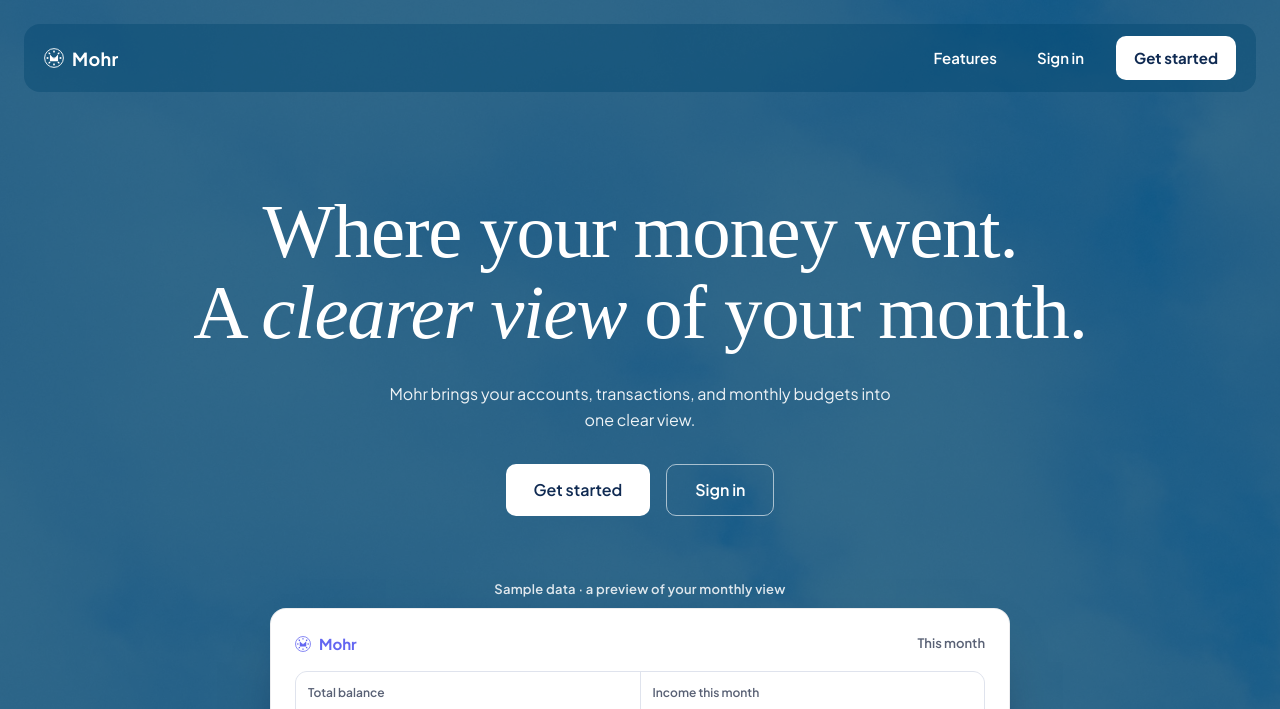
Scenario: login › fetches a CSRF token, posts credentials, and navigates to the shell
Click the link "Sign in" next to "Features".
click(1060, 57)  # box [1037, 48, 1084, 67]
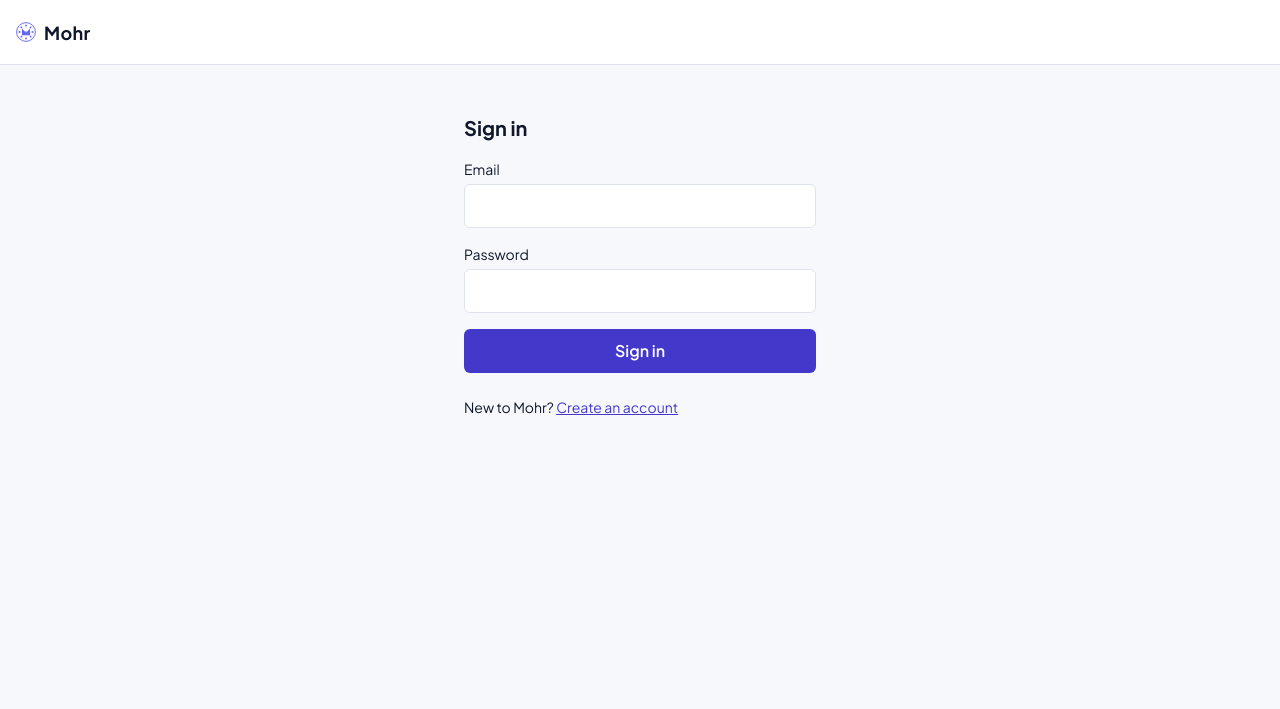
Expected: the field labelled "Email" is shown
Type "me@example.com" into the field labelled "Email".
click(640, 206); type("me@example.com")  # box [464, 184, 816, 228]
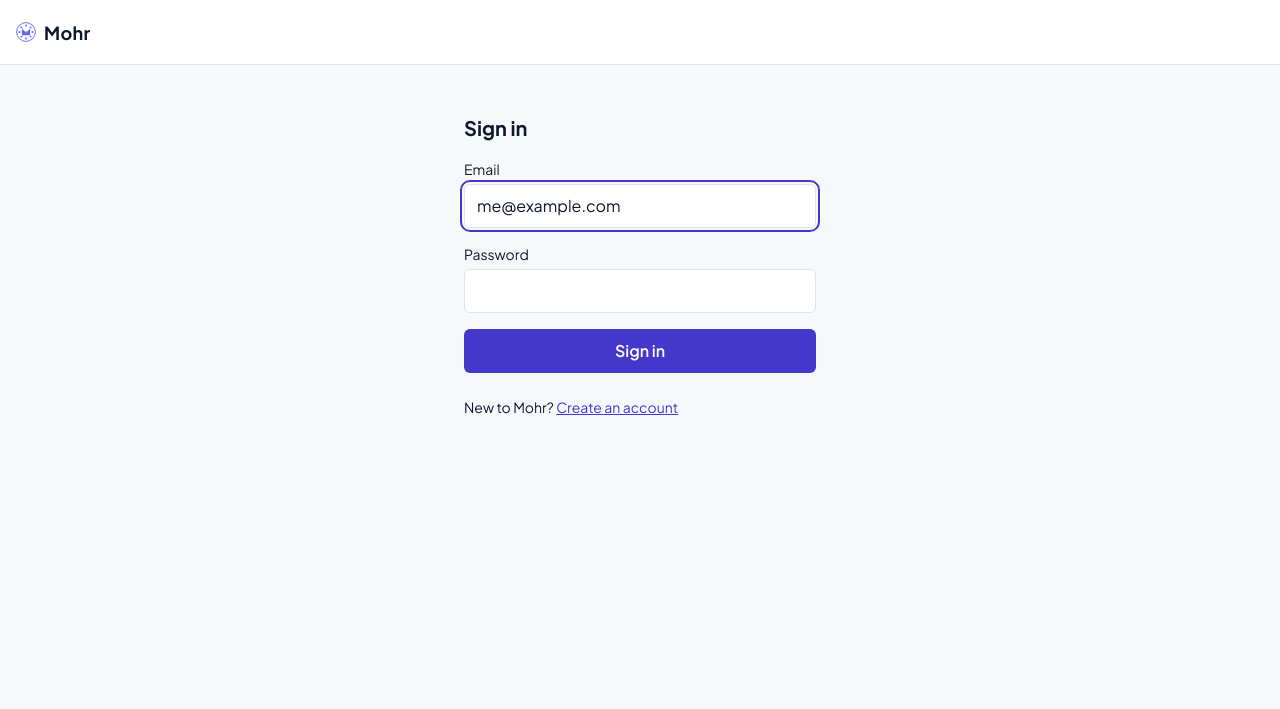
Type "correct-horse" into the password field labelled "Password".
click(640, 291); type("correct-horse")  # box [464, 269, 816, 313]
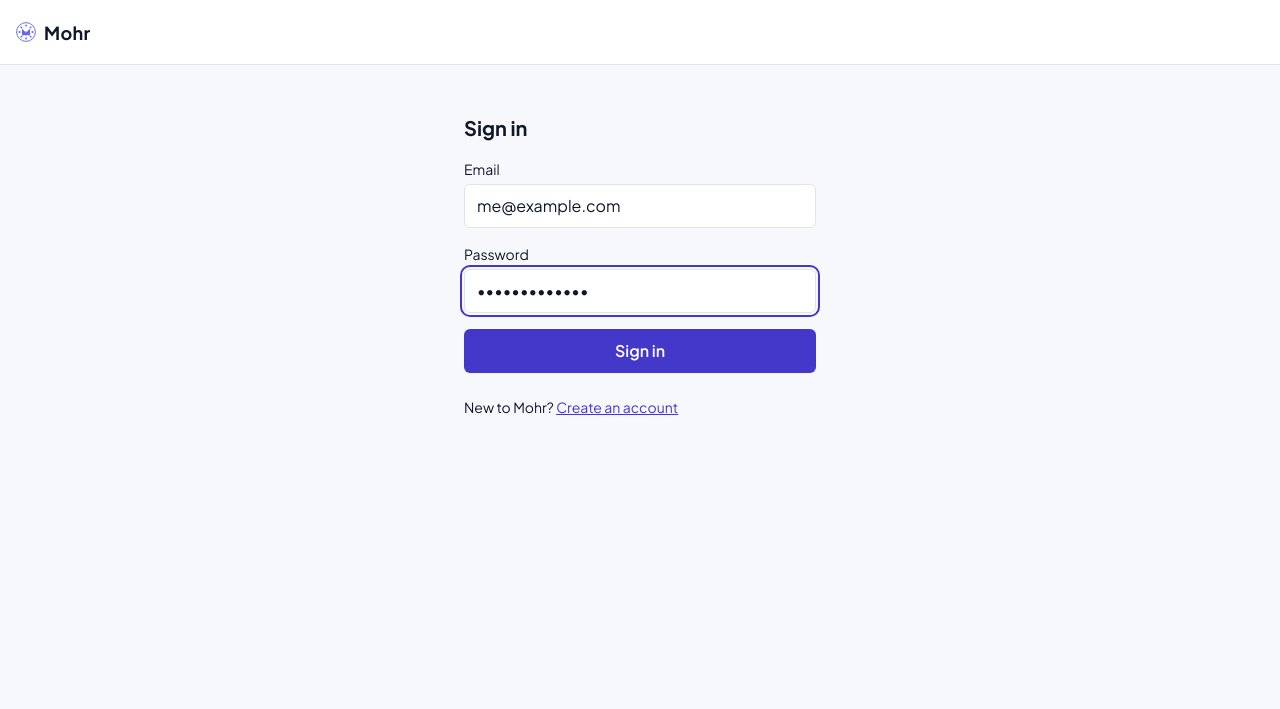
Click the button "Sign in".
click(640, 351)  # box [464, 329, 816, 373]
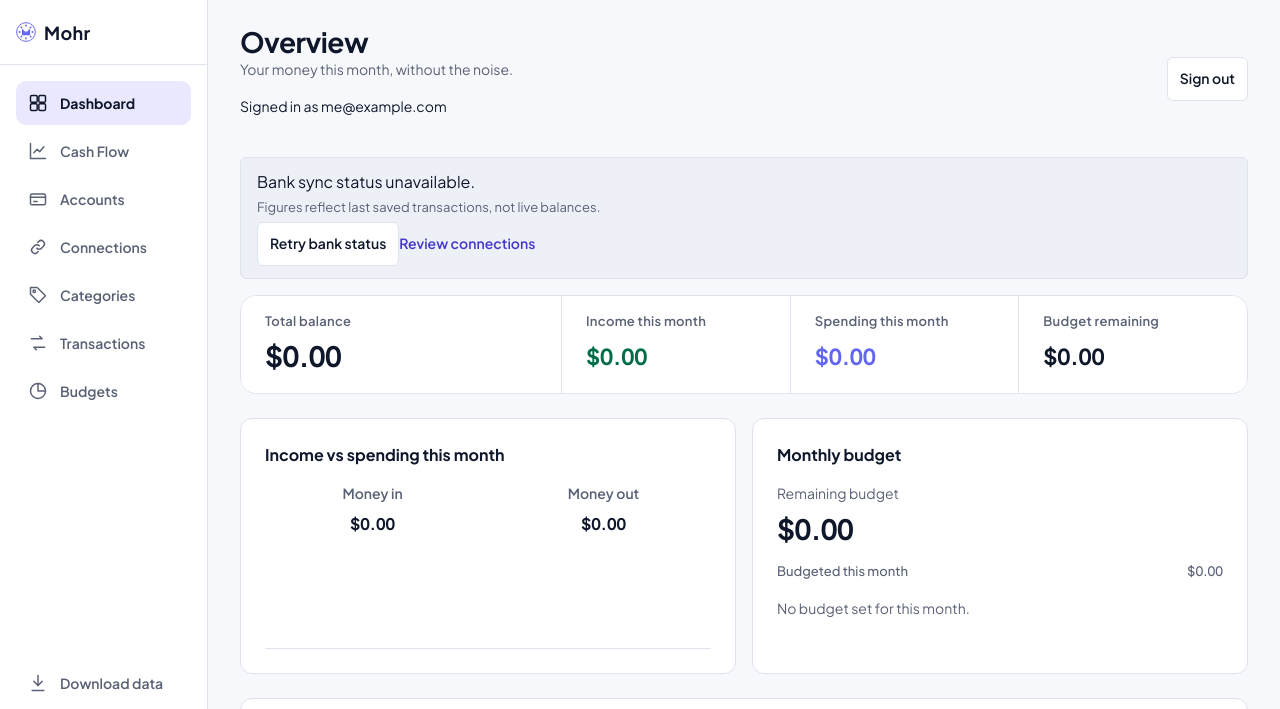
Expected: the text "Signed in as me@example.com" is shown, [240, 97, 447, 115]
